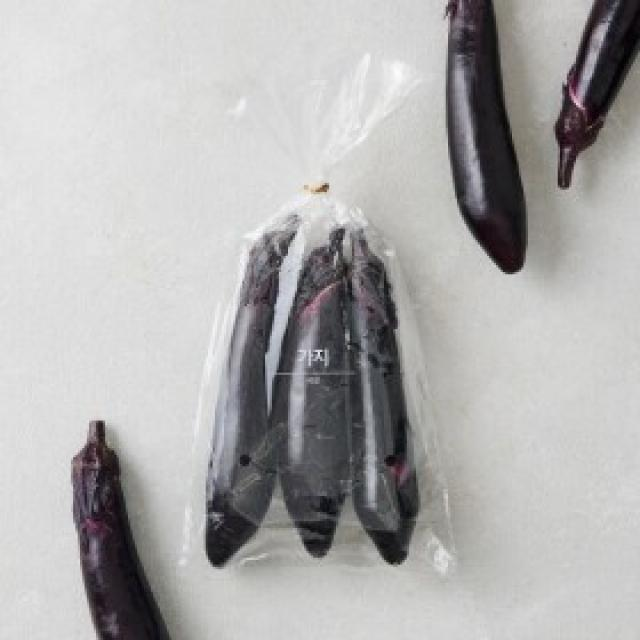eggplant: (206, 71, 460, 573)
